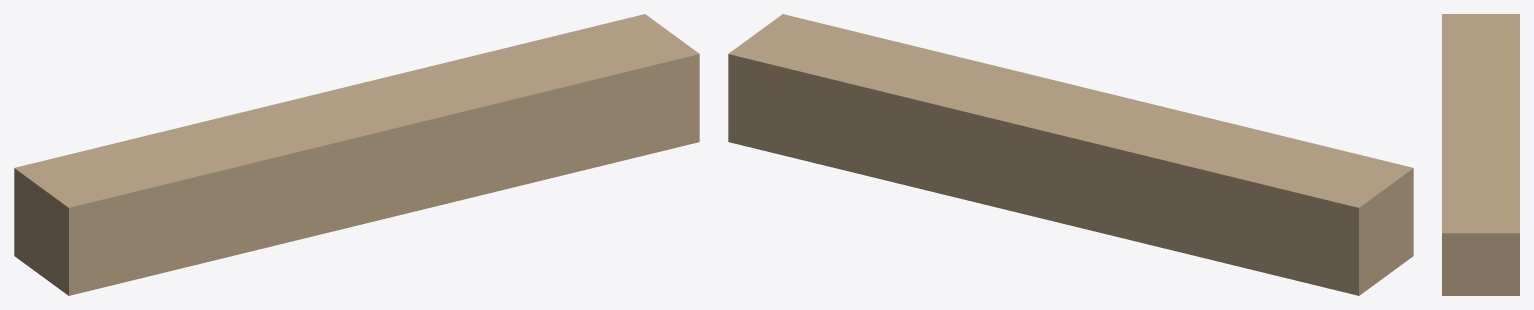
The model's file is bh_villa_roof_edge_01_lod0.glb.
3 renders of one model, left to right at view 1: azimuth 30°, elevation 25°; view 2: azimuth 150°, elevation 25°; view 3: azimuth 270°, elevation 25°, orthographic. The views are drawn at different scales.
Visible parts, largest first — view 1: bh_villa_roof_edge_01_mesh_lod0; view 2: bh_villa_roof_edge_01_mesh_lod0; view 3: bh_villa_roof_edge_01_mesh_lod0.
Part boxes in pixels (x1,y1,x2,y2): bh_villa_roof_edge_01_mesh_lod0: [14, 14, 699, 295]; bh_villa_roof_edge_01_mesh_lod0: [728, 14, 1413, 295]; bh_villa_roof_edge_01_mesh_lod0: [1442, 14, 1519, 295].
Bounding box in the file's own units: 3 × 0.4 × 0.45.
